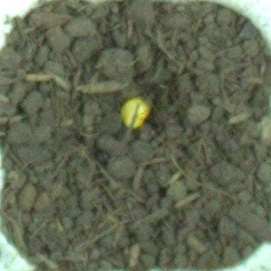chilli seed: (118, 95, 152, 130)
